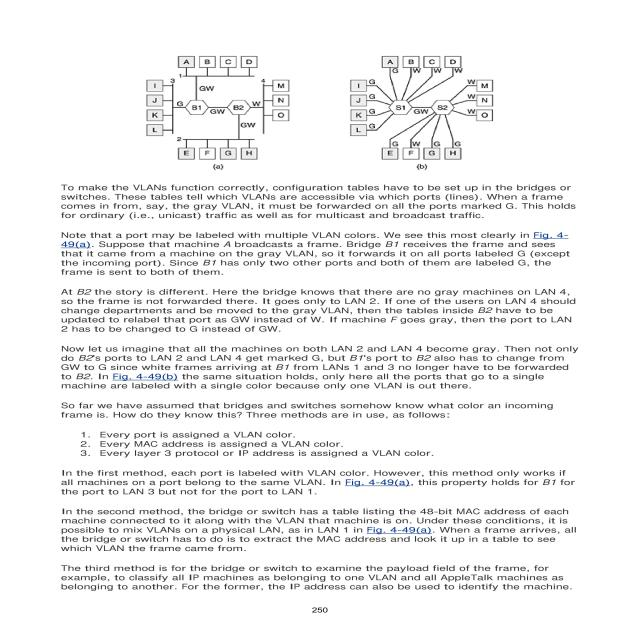diagram: (133, 29, 529, 171)
